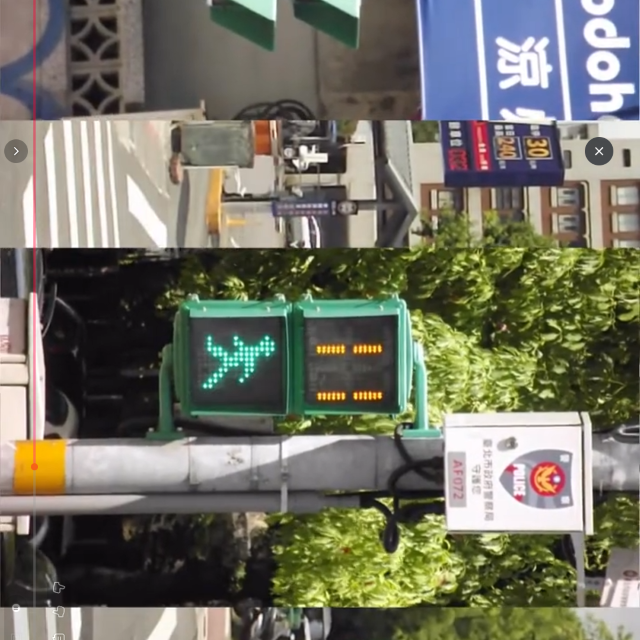green_light: (178, 298, 407, 413)
